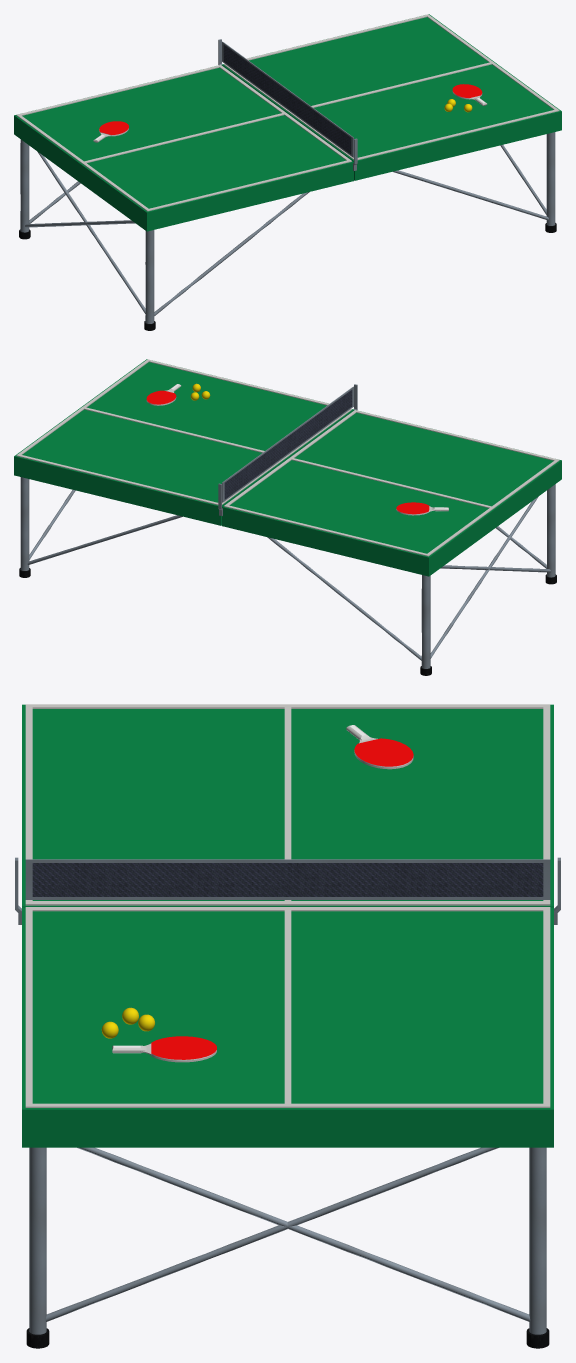
Rendered from ping_pong_table.glb.
3 renders of one model, top to bottom at view 1: azimuth 30°, elevation 25°; view 2: azimuth 150°, elevation 25°; view 3: azimuth 270°, elevation 25°, orthographic. The views are drawn at different scales.
Visible parts, largest first — view 1: Extrusion [1914], Extrusion [2017], Extrusion [2589], Extrusion [3348], Extrusion [3849], Extrusion [2241], Extrusion [2249], Extrusion [2118], Extrusion [2314], Extrusion [3792], Extrusion [2257], Extrusion [2485] (+3 smaller); view 2: Extrusion [1914], Extrusion [2017], Extrusion [2589], Extrusion [3348], Extrusion [3849], Extrusion [2221], Extrusion [2118], Extrusion [2241], Extrusion [3792], Extrusion [2526], Extrusion [2350], Extrusion [2508] (+3 smaller); view 3: Extrusion [1914], Extrusion [3849], Extrusion [2017], Extrusion [3348], Extrusion [2589], Extrusion [3792], Extrusion [2539], Extrusion [2543], Extrusion [2221], Extrusion [2249], Ping Pong Racket Ping Pong Racket [5828], Ping Pong Racket Ping Pong Racket [5828]001.
Boxes of the visible parts, <box> form: Extrusion [1914]: <box>14,14,561,215</box>; Extrusion [2017]: <box>14,114,561,231</box>; Extrusion [2589]: <box>16,65,351,211</box>; Extrusion [3348]: <box>224,14,559,159</box>; Extrusion [3849]: <box>223,45,351,154</box>; Extrusion [2241]: <box>145,230,154,323</box>; Extrusion [2249]: <box>546,132,555,225</box>; Extrusion [2118]: <box>20,139,29,232</box>; Extrusion [2314]: <box>154,192,309,315</box>; Extrusion [3792]: <box>222,41,353,157</box>; Extrusion [2257]: <box>37,151,145,313</box>; Extrusion [2485]: <box>392,170,548,220</box>; Extrusion [1914]: <box>14,359,561,560</box>; Extrusion [2017]: <box>14,459,561,576</box>; Extrusion [2589]: <box>224,410,559,556</box>; Extrusion [3348]: <box>16,359,351,505</box>; Extrusion [3849]: <box>224,390,352,499</box>; Extrusion [2221]: <box>20,477,29,570</box>; Extrusion [2118]: <box>421,575,430,668</box>; Extrusion [2241]: <box>547,484,555,577</box>; Extrusion [3792]: <box>222,386,353,502</box>; Extrusion [2526]: <box>267,537,421,660</box>; Extrusion [2350]: <box>430,496,538,658</box>; Extrusion [2508]: <box>27,515,182,564</box>; Extrusion [1914]: <box>22,704,553,1115</box>; Extrusion [3849]: <box>32,863,543,896</box>; Extrusion [2017]: <box>22,1116,553,1147</box>; Extrusion [3348]: <box>25,907,550,1107</box>; Extrusion [2589]: <box>25,704,550,905</box>; Extrusion [3792]: <box>25,859,550,899</box>; Extrusion [2539]: <box>45,1147,498,1321</box>; Extrusion [2543]: <box>77,1147,530,1321</box>; Extrusion [2221]: <box>529,1147,546,1334</box>; Extrusion [2249]: <box>29,1147,46,1334</box>; Ping Pong Racket Ping Pong Racket [5828]: <box>112,1036,216,1062</box>; Ping Pong Racket Ping Pong Racket [5828]001: <box>346,725,413,769</box>.
Size of the model in its own units: 2.74 by 0.9106 by 1.56.
Materials: 13 (7 with a texture image).
